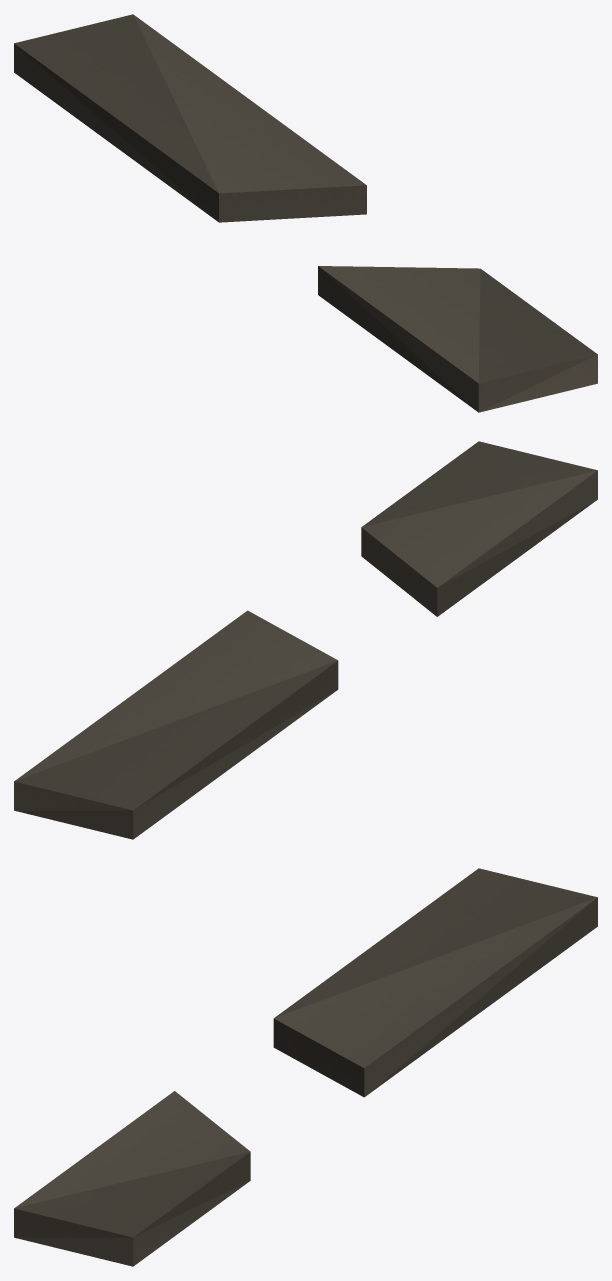
The model's file is Wood_1G_LOD.fbx.
The picture shows the model from 3 angles, top to bottom: view 1: azimuth 30°, elevation 25°; view 2: azimuth 150°, elevation 25°; view 3: azimuth 330°, elevation 25°; orthographic projection.
Visible parts, largest first — view 1: polySurface1072; view 2: polySurface1072; view 3: polySurface1072.
Part boxes in pixels (box(x1,y1,x2,y2)): polySurface1072: box(14, 14, 597, 412); polySurface1072: box(14, 441, 597, 839); polySurface1072: box(14, 868, 597, 1266).
Bounding box in the file's own units: 0.385 × 0.09 × 2.6.
